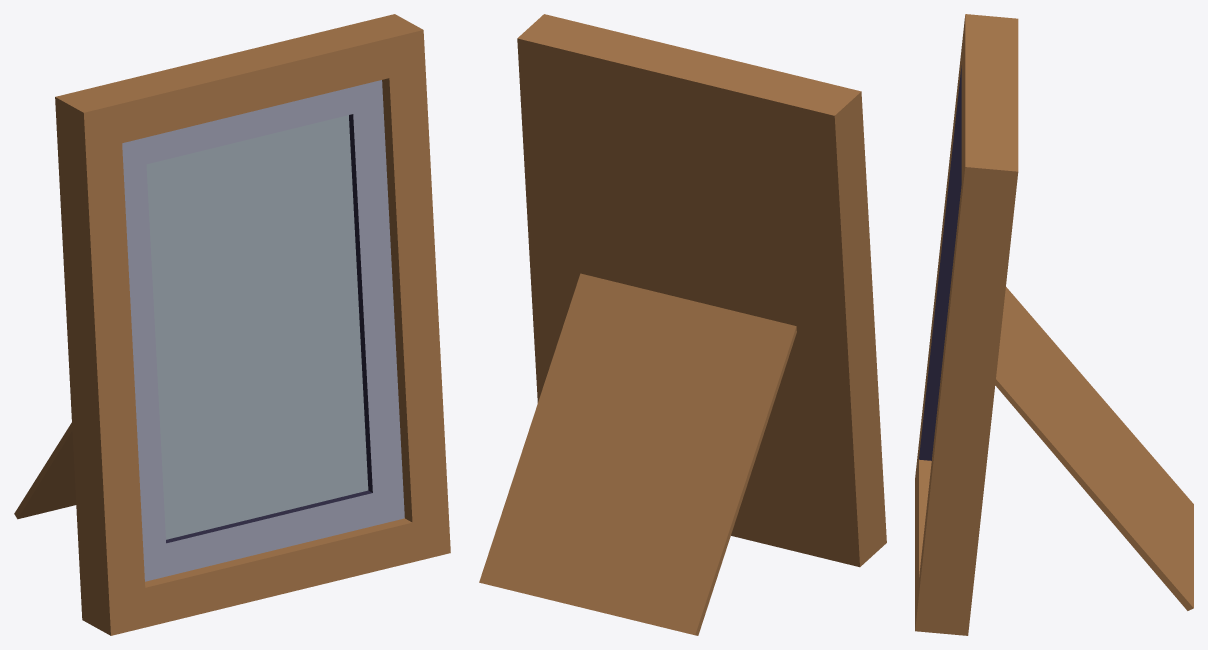
File: FamilyPhotoFrame.fbx
3 views of the same model, side by side, from view 1: azimuth 30°, elevation 25°; view 2: azimuth 150°, elevation 25°; view 3: azimuth 270°, elevation 25° (orthographic). The views are drawn at different scales.
Visible parts, largest first — view 1: FamilyPhotoFrame; view 2: FamilyPhotoFrame; view 3: FamilyPhotoFrame.
Boxes of the visible parts, box(x1,y1,x2,y2) form: FamilyPhotoFrame: box(14, 14, 450, 635); FamilyPhotoFrame: box(479, 14, 886, 635); FamilyPhotoFrame: box(915, 14, 1193, 635).
Size of the model in its own units: 20.22 by 28.9 by 15.57.
